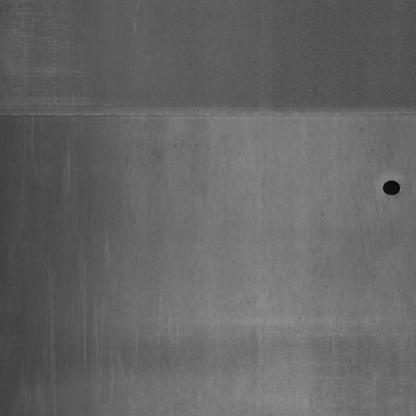punching_hole: (379, 171, 405, 203)
welding_line: (0, 103, 415, 131)
